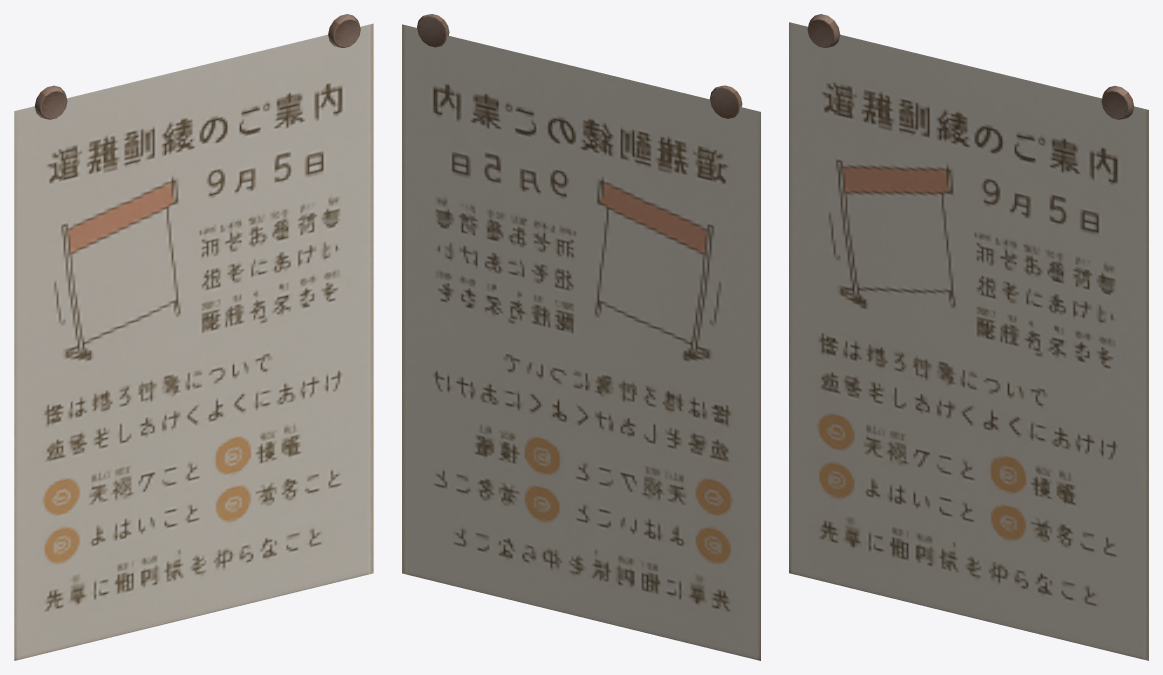
The model's file is SM_notice_004.fbx.
3 views of the same model, side by side, from view 1: azimuth 30°, elevation 25°; view 2: azimuth 150°, elevation 25°; view 3: azimuth 330°, elevation 25° (orthographic).
Parts seen in each view (by area): view 1: notices09; view 2: notices09; view 3: notices09.
Part boxes in pixels (x1=…): notices09: x1=14, y1=14, x2=373, y2=660; notices09: x1=402, y1=14, x2=760, y2=660; notices09: x1=789, y1=14, x2=1148, y2=660.
Size of the model in its own units: 11.83 by 17.82 by 0.2655.
1 material, 1 textured.
